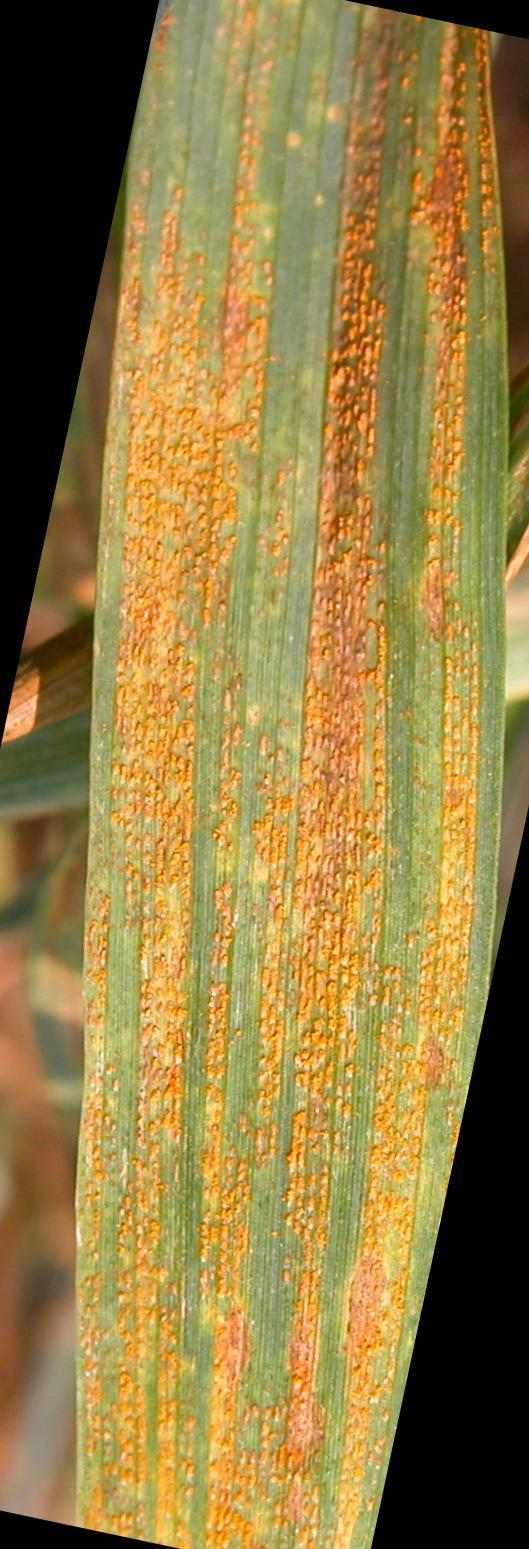Wheat: (109, 609, 454, 1094), (131, 169, 468, 582), (89, 1113, 370, 1529), (239, 39, 480, 169)
